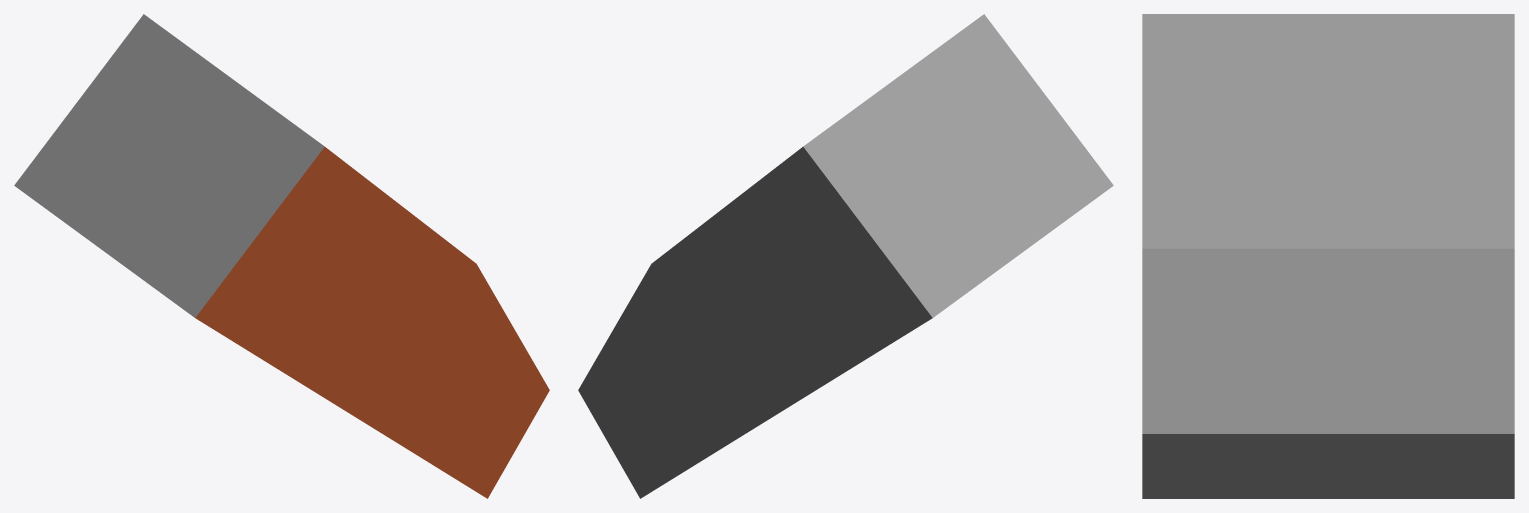
File: construction_0535_assumed_A_Casa_h6m.obj
The picture shows the model from 3 angles, left to right: view 1: azimuth 30°, elevation 25°; view 2: azimuth 150°, elevation 25°; view 3: azimuth 270°, elevation 25°; orthographic projection. The views are drawn at different scales.
Parts seen in each view (by area): view 1: construction_0535_assumed_A_Casa; view 2: construction_0535_assumed_A_Casa; view 3: construction_0535_assumed_A_Casa.
Boxes of the visible parts, <box> form: construction_0535_assumed_A_Casa: <box>14,14,549,498</box>; construction_0535_assumed_A_Casa: <box>578,14,1113,498</box>; construction_0535_assumed_A_Casa: <box>1142,14,1514,498</box>.
Size of the model in its own units: 6.78 by 7.17 by 6.
